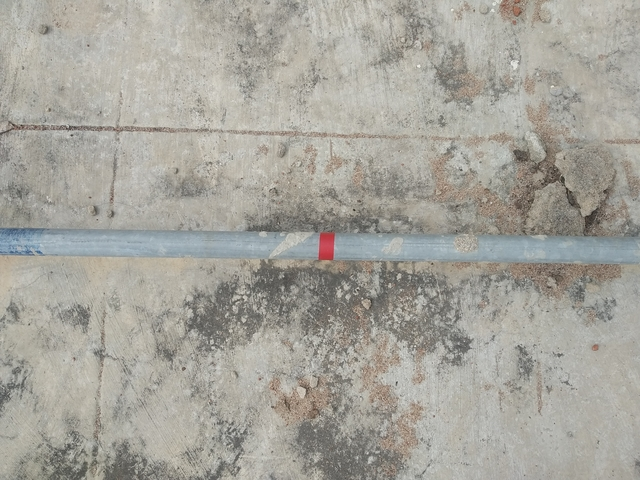rust: (314, 226, 340, 269)
